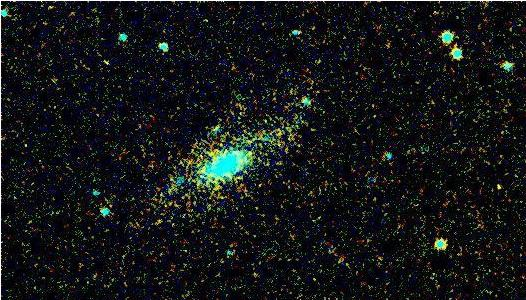star: (483, 174, 513, 204)
